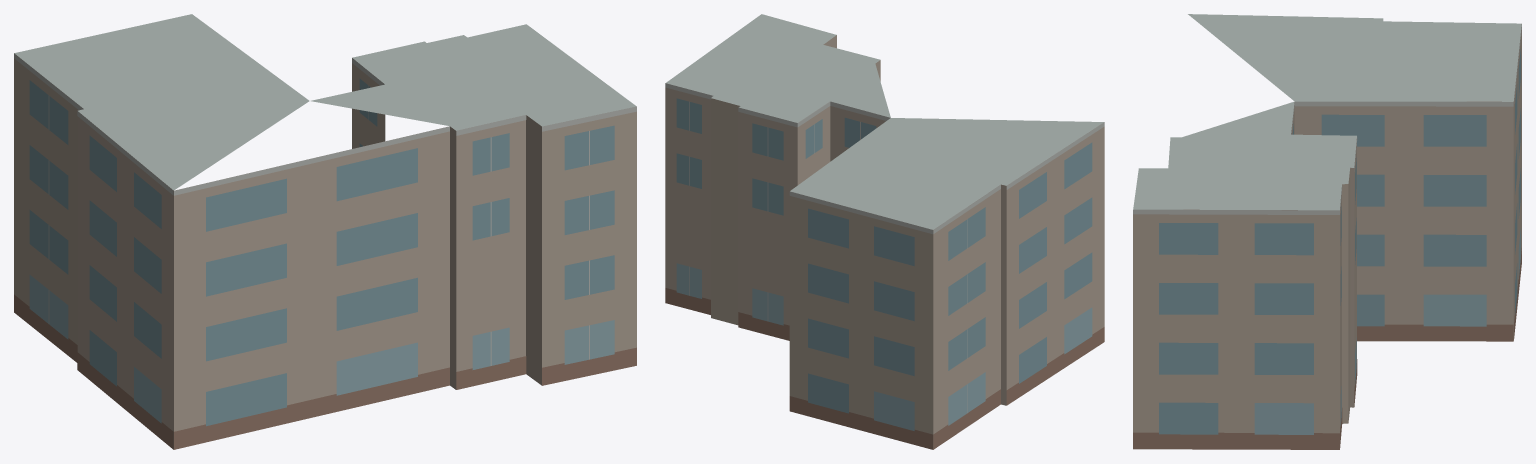
File: survey-upis-32471504.glb
3 renders of one model, left to right at view 1: azimuth 30°, elevation 25°; view 2: azimuth 150°, elevation 25°; view 3: azimuth 270°, elevation 25°, orthographic. The views are drawn at different scales.
Visible parts, largest first — view 1: survey-upis-32471504.tmp; view 2: survey-upis-32471504.tmp; view 3: survey-upis-32471504.tmp.
Part boxes in pixels (left/top/right/bottom): survey-upis-32471504.tmp: left=14, top=14, right=636, bottom=449; survey-upis-32471504.tmp: left=665, top=14, right=1104, bottom=449; survey-upis-32471504.tmp: left=1133, top=14, right=1521, bottom=449.
Size of the model in its own units: 21.44 by 12.2 by 17.95.
